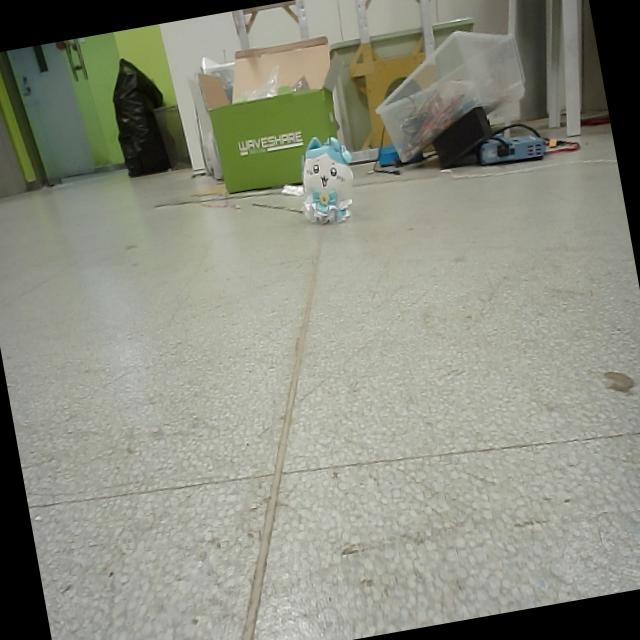xiaoba: (290, 125, 363, 233)
